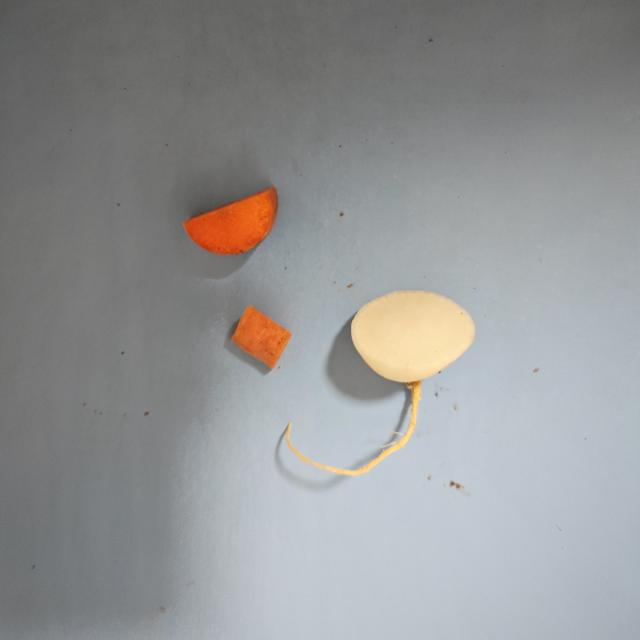-Kitchen waste - carrot-: (176, 172, 284, 258), (225, 298, 296, 377)
-Kitchen waste - white radish-: (338, 286, 493, 430)
